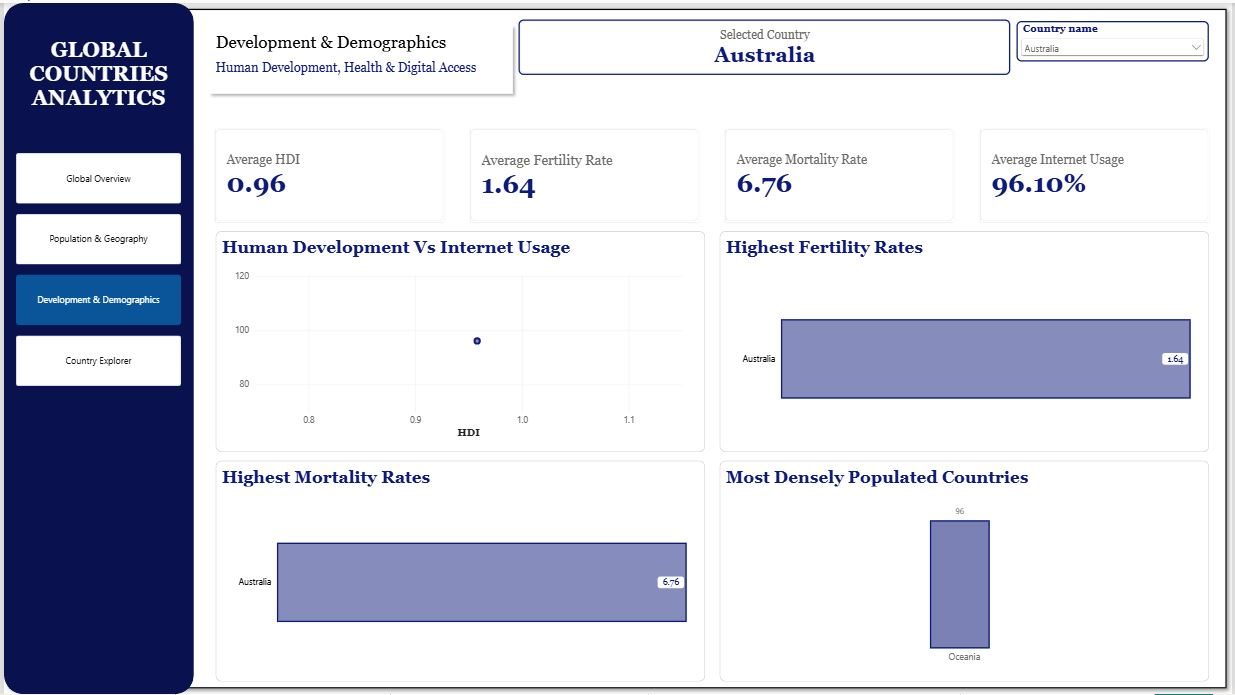

What the dashboard file says about the page in this screenshot:
{"tool":"powerbi","page":{"name":"Development & Demographics","canvas":[1920,1080],"ordinal":2},"visuals":[{"type":"shape","box":[0,0,1920.1,1080.4],"z":0},{"type":"shape","box":[312.9,26.9,492.2,124.9],"z":0,"group":"g1"},{"type":"shape","box":[0,0,296.8,1080.4],"z":1000},{"type":"shape","box":[331.1,90.5,457.8,34.4],"z":1000,"group":"g1"},{"type":"pageNavigator","box":[18.1,235.3,258.8,365.6],"z":2000},{"type":"shape","box":[18.1,27.1,258.8,170.1],"z":3000},{"type":"group","id":"g1","title":"Group 1","box":[312.9,26.9,492.2,124.9],"z":4000},{"type":"cardVisual","fields":{"Data":["country_stats.Average Fertility Rate"]},"box":[729.9,197.3,356.5,144.8],"z":5000},{"type":"cardVisual","fields":{"Data":["country_stats.Average Mortality Rate"]},"box":[1128.6,197.3,356.5,144.8],"z":6000},{"type":"shape","box":[331.2,356.5,765.5,345.6],"z":7000},{"type":"shape","box":[1118.4,356.5,765.5,345.6],"z":8000},{"type":"shape","box":[331.2,714.8,765.5,345.6],"z":9000},{"type":"shape","box":[1118.4,714.8,765.5,345.6],"z":10000},{"type":"hundredPercentStackedBarChart","fields":{"Category":["country_stats.Country name"],"Y":["country_stats.Mortality Rates"]},"box":[345.6,760.1,738.3,285.9],"z":11000},{"type":"textbox","box":[1241.4,269.6,56.1,56.1],"z":12000},{"type":"cardVisual","fields":{"Data":["country_stats.Average HDI"]},"box":[331.2,197.3,356.5,144.8],"z":13000},{"type":"cardVisual","fields":{"Data":["country_stats.Avg Interet Usage"]},"box":[1527.4,197.3,356.5,144.8],"z":14000},{"type":"scatterChart","fields":{"X":["country_stats.HDI"],"Y":["Sum(country_stats.% of internet users in population)"]},"box":[344,402.4,740.2,293.2],"z":15000},{"type":"hundredPercentStackedBarChart","fields":{"Category":["country_stats.Country name"],"Y":["country_stats.Fertility Rates"]},"box":[1132.8,410.8,738.3,285.9],"z":16000},{"type":"columnChart","fields":{"Category":["Region.Continent"],"Y":["Sum(country_stats.% of internet users in population)"]},"box":[1129.2,760.1,742,293.2],"z":17000},{"type":"slicer","fields":{"Values":["country_stats.Country name"]},"box":[1583.5,27.1,300.4,63.3],"z":18000},{"type":"cardVisual","title":"Country ","fields":{"Data":["country_stats.Country Names"]},"box":[804.2,25.8,769,86.7],"z":19000}]}

Visuals, with their boxes on the page's 1920x1080 design canvas (x1, y1, x2, y2). These are canvas units, not pixel positions in the 1235x695 screenshot, which may show the page scaled, cropped or inside an application window:
shape: box(0, 0, 1920, 1080)
shape: box(313, 27, 805, 152)
shape: box(0, 0, 297, 1080)
shape: box(331, 90, 789, 125)
pageNavigator: box(18, 235, 277, 601)
shape: box(18, 27, 277, 197)
"Group 1" group: box(313, 27, 805, 152)
cardVisual - country_stats.Average Fertility Rate: box(730, 197, 1086, 342)
cardVisual - country_stats.Average Mortality Rate: box(1129, 197, 1485, 342)
shape: box(331, 356, 1097, 702)
shape: box(1118, 356, 1884, 702)
shape: box(331, 715, 1097, 1060)
shape: box(1118, 715, 1884, 1060)
hundredPercentStackedBarChart - country_stats.Country name x country_stats.Mortality Rates: box(346, 760, 1084, 1046)
textbox: box(1241, 270, 1298, 326)
cardVisual - country_stats.Average HDI: box(331, 197, 688, 342)
cardVisual - country_stats.Avg Interet Usage: box(1527, 197, 1884, 342)
scatterChart - country_stats.HDI x Sum(country_stats.% of internet users in population): box(344, 402, 1084, 696)
hundredPercentStackedBarChart - country_stats.Country name x country_stats.Fertility Rates: box(1133, 411, 1871, 697)
columnChart - Region.Continent x Sum(country_stats.% of internet users in population): box(1129, 760, 1871, 1053)
slicer - country_stats.Country name: box(1584, 27, 1884, 90)
"Country " cardVisual: box(804, 26, 1573, 112)
